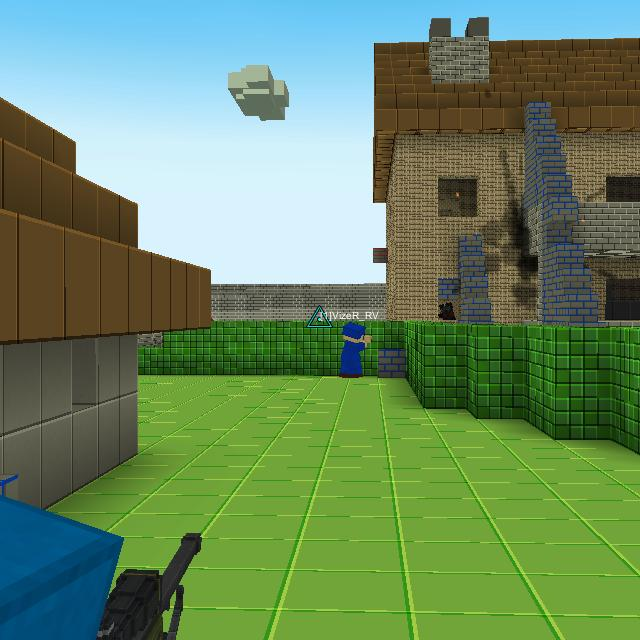enemy: (438, 301, 456, 320)
